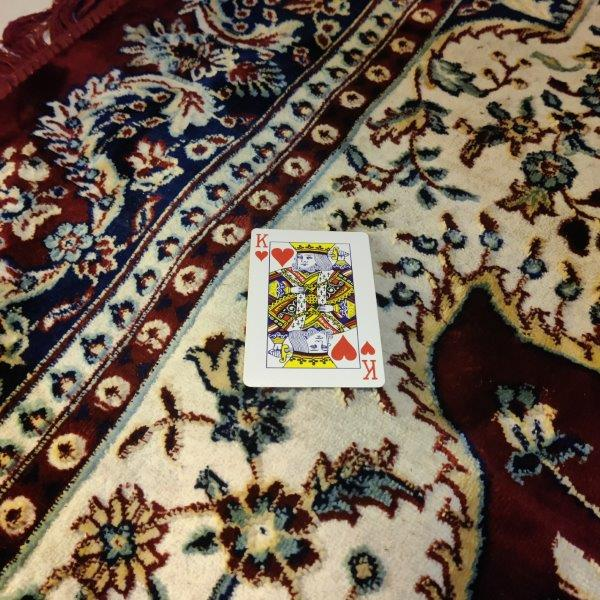King of Hearts: (241, 227, 385, 389)
